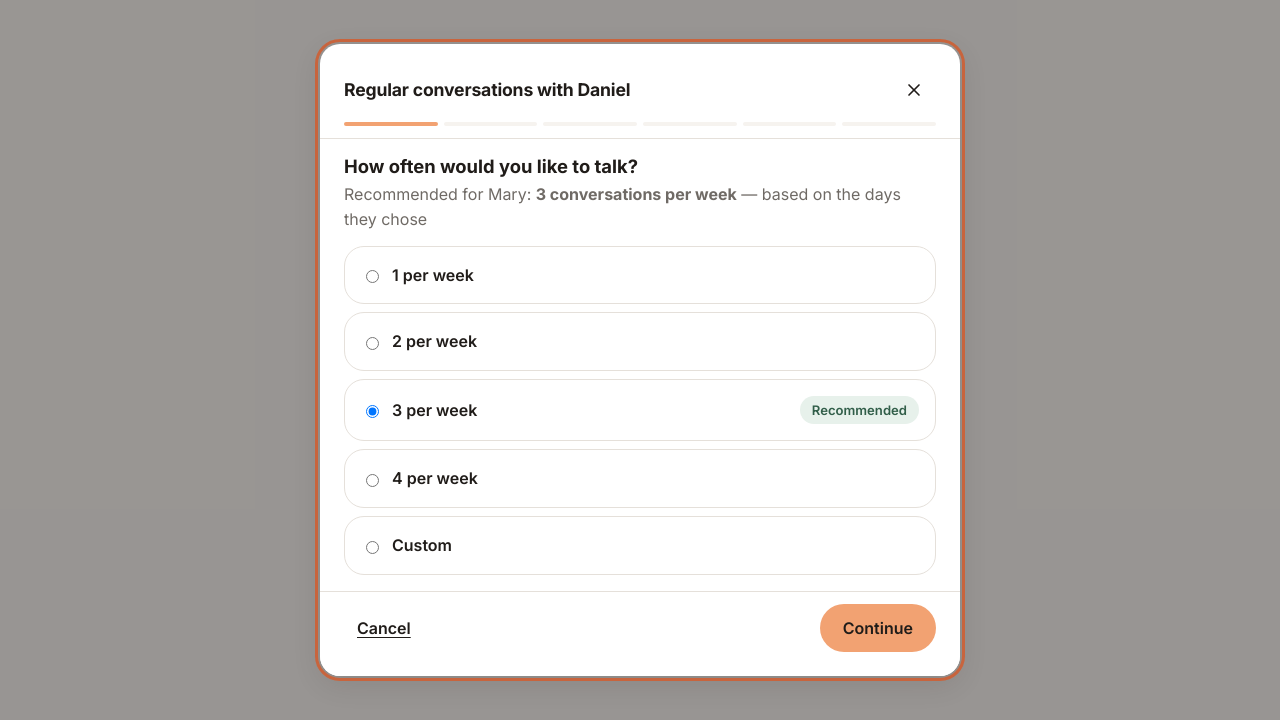
Test: recurring schedule stages › 14+15. frequency 3 creates three stages, each choosing weekday and time
The width and height of the screenshot is (1280, 720).
Expected: the heading "How often would you like to talk?" is shown, x1=344 y1=155 x2=638 y2=177
Click the button "Continue" at (878, 628), box x1=820 y1=604 x2=936 y2=652
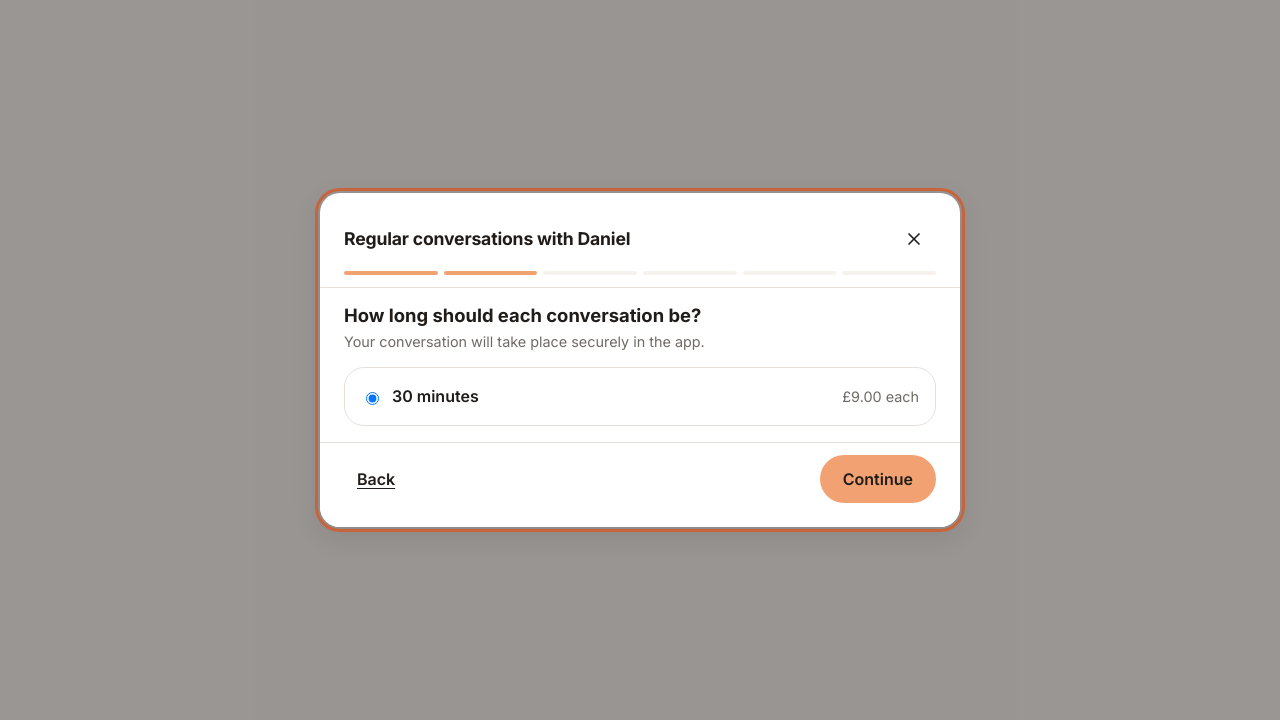
Click the button "Continue" at (878, 479), box x1=820 y1=455 x2=936 y2=503
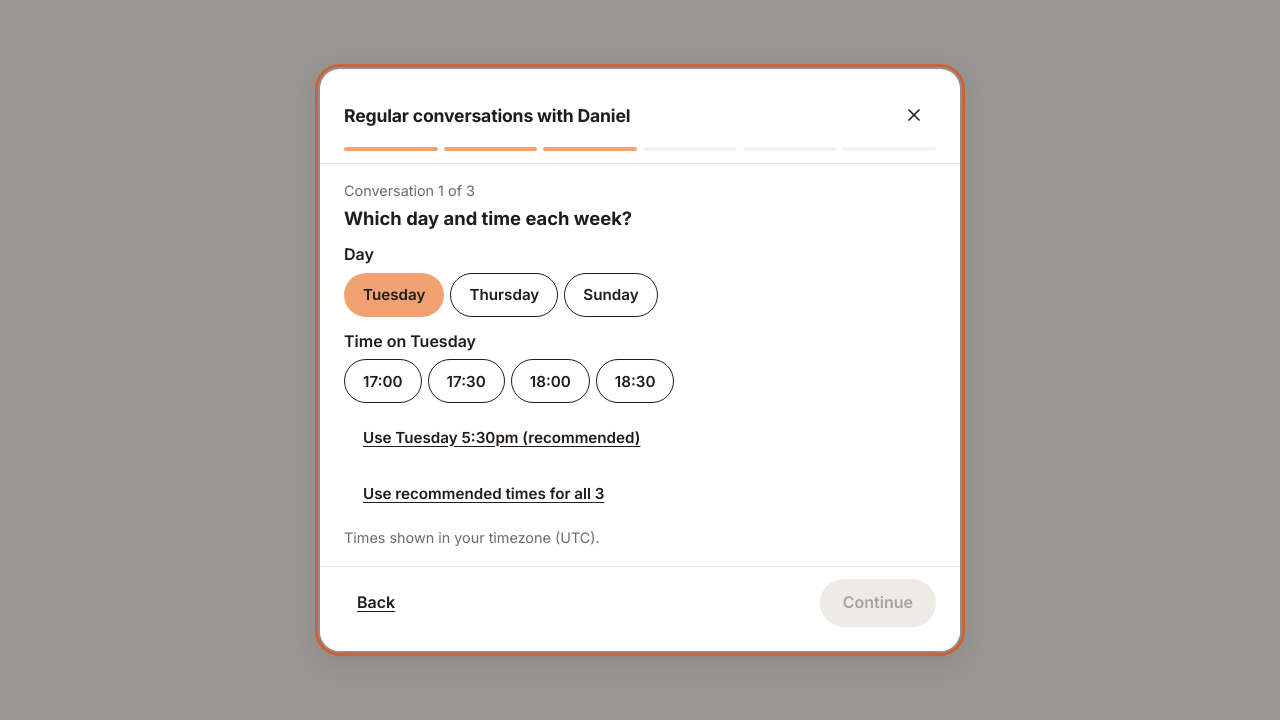
Expected: the text "Conversation 1 of 3" is shown, x1=344 y1=182 x2=475 y2=199
Expected: the text "Day" is shown, x1=344 y1=244 x2=374 y2=264
Expected: the button "Tuesday" is shown, x1=344 y1=272 x2=444 y2=316
Click the button named "Tuesday 17:00" at (383, 381), box x1=344 y1=359 x2=422 y2=403
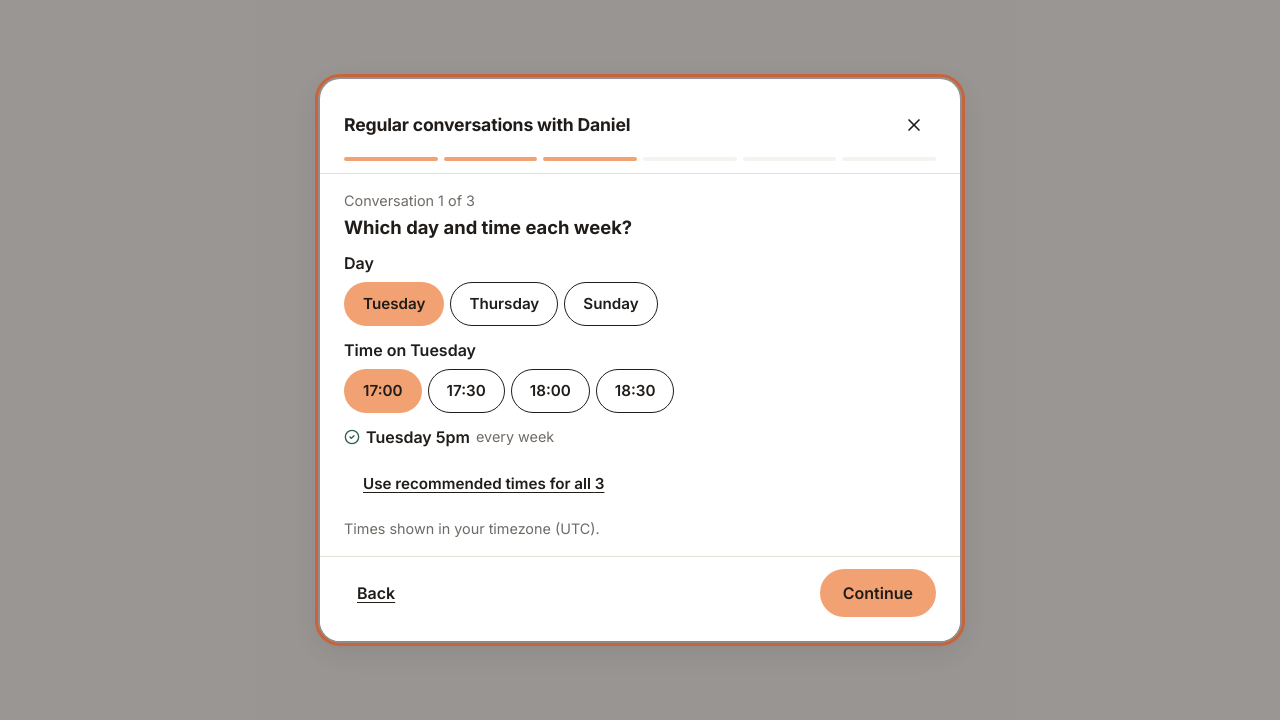
Expected: the button "Continue" is enabled
Click the button "Continue" at (878, 593), box x1=820 y1=569 x2=936 y2=617
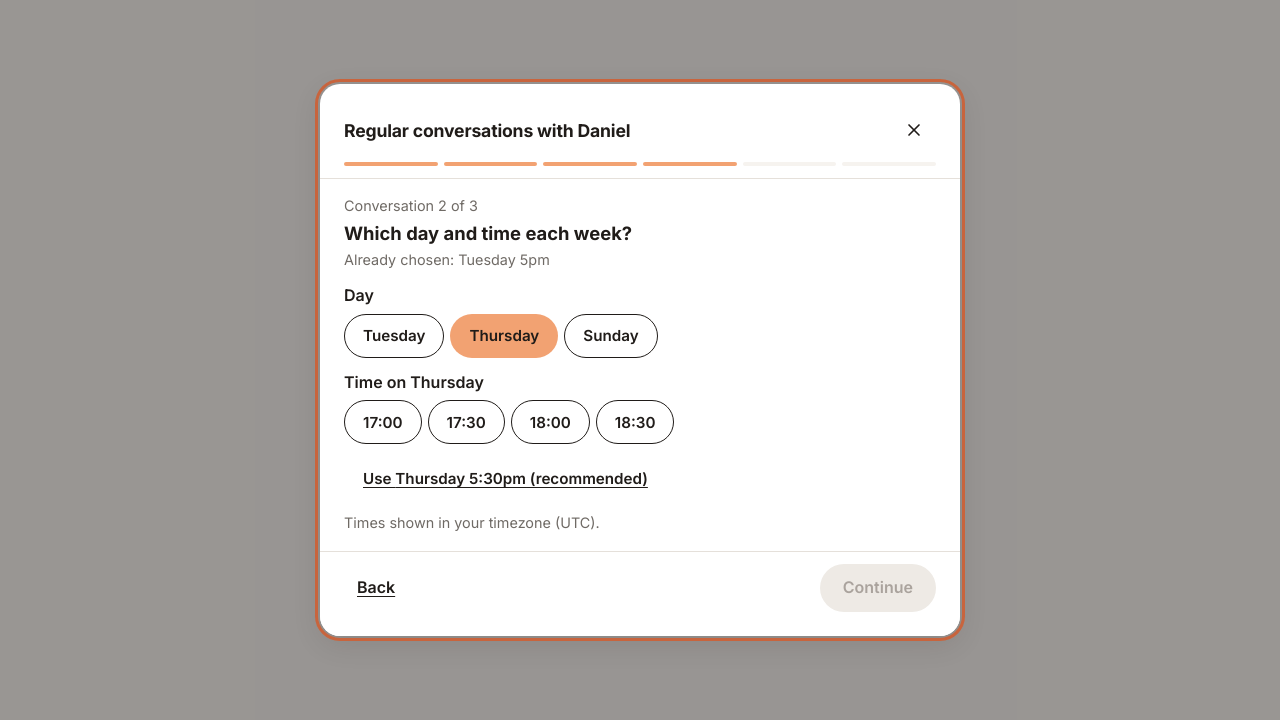
Expected: the text "Conversation 2 of 3" is shown, x1=344 y1=197 x2=478 y2=214
Expected: the text "Already chosen: Tuesday 5pm" is shown, x1=344 y1=250 x2=550 y2=268
